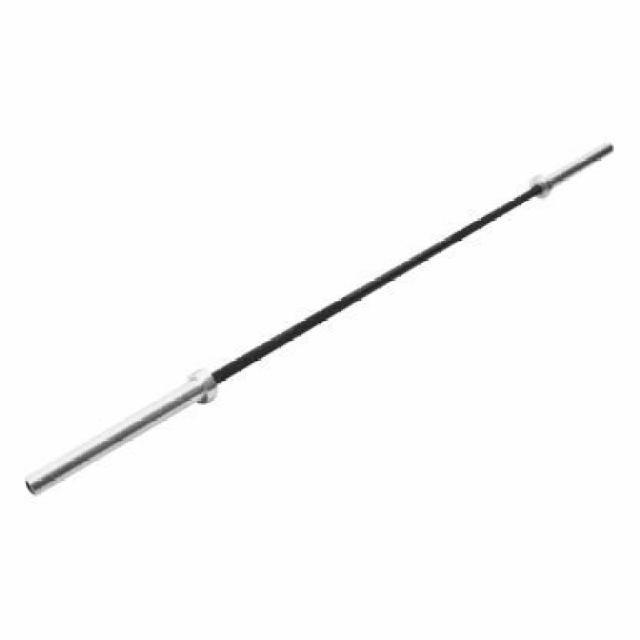Barbell: (16, 468, 52, 514)
